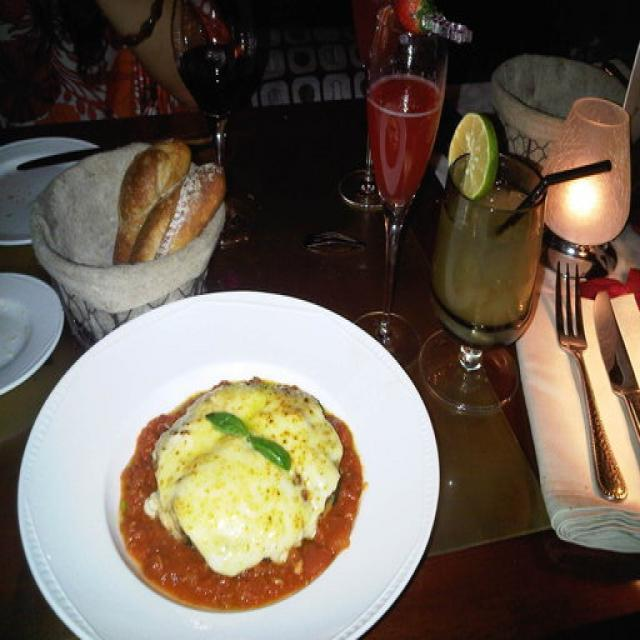Lasagna: (136, 365, 376, 603)
